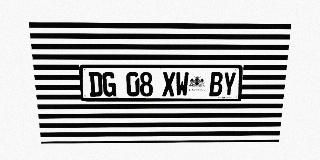0: (126, 72, 140, 96)
8: (140, 72, 153, 96)
B: (209, 72, 223, 96)
D: (88, 72, 103, 96)
G: (102, 72, 116, 96)
W: (175, 72, 189, 96)
X: (162, 72, 175, 96)
Y: (222, 72, 236, 96)
